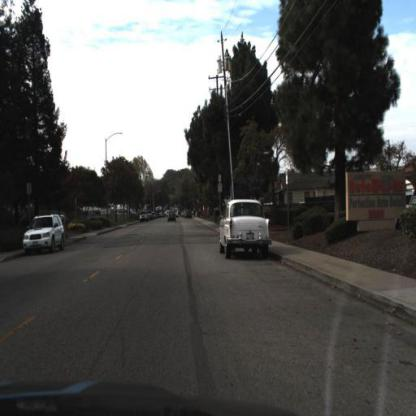car: (221, 197, 273, 261), (23, 211, 66, 257), (166, 209, 181, 228), (138, 210, 152, 226)
